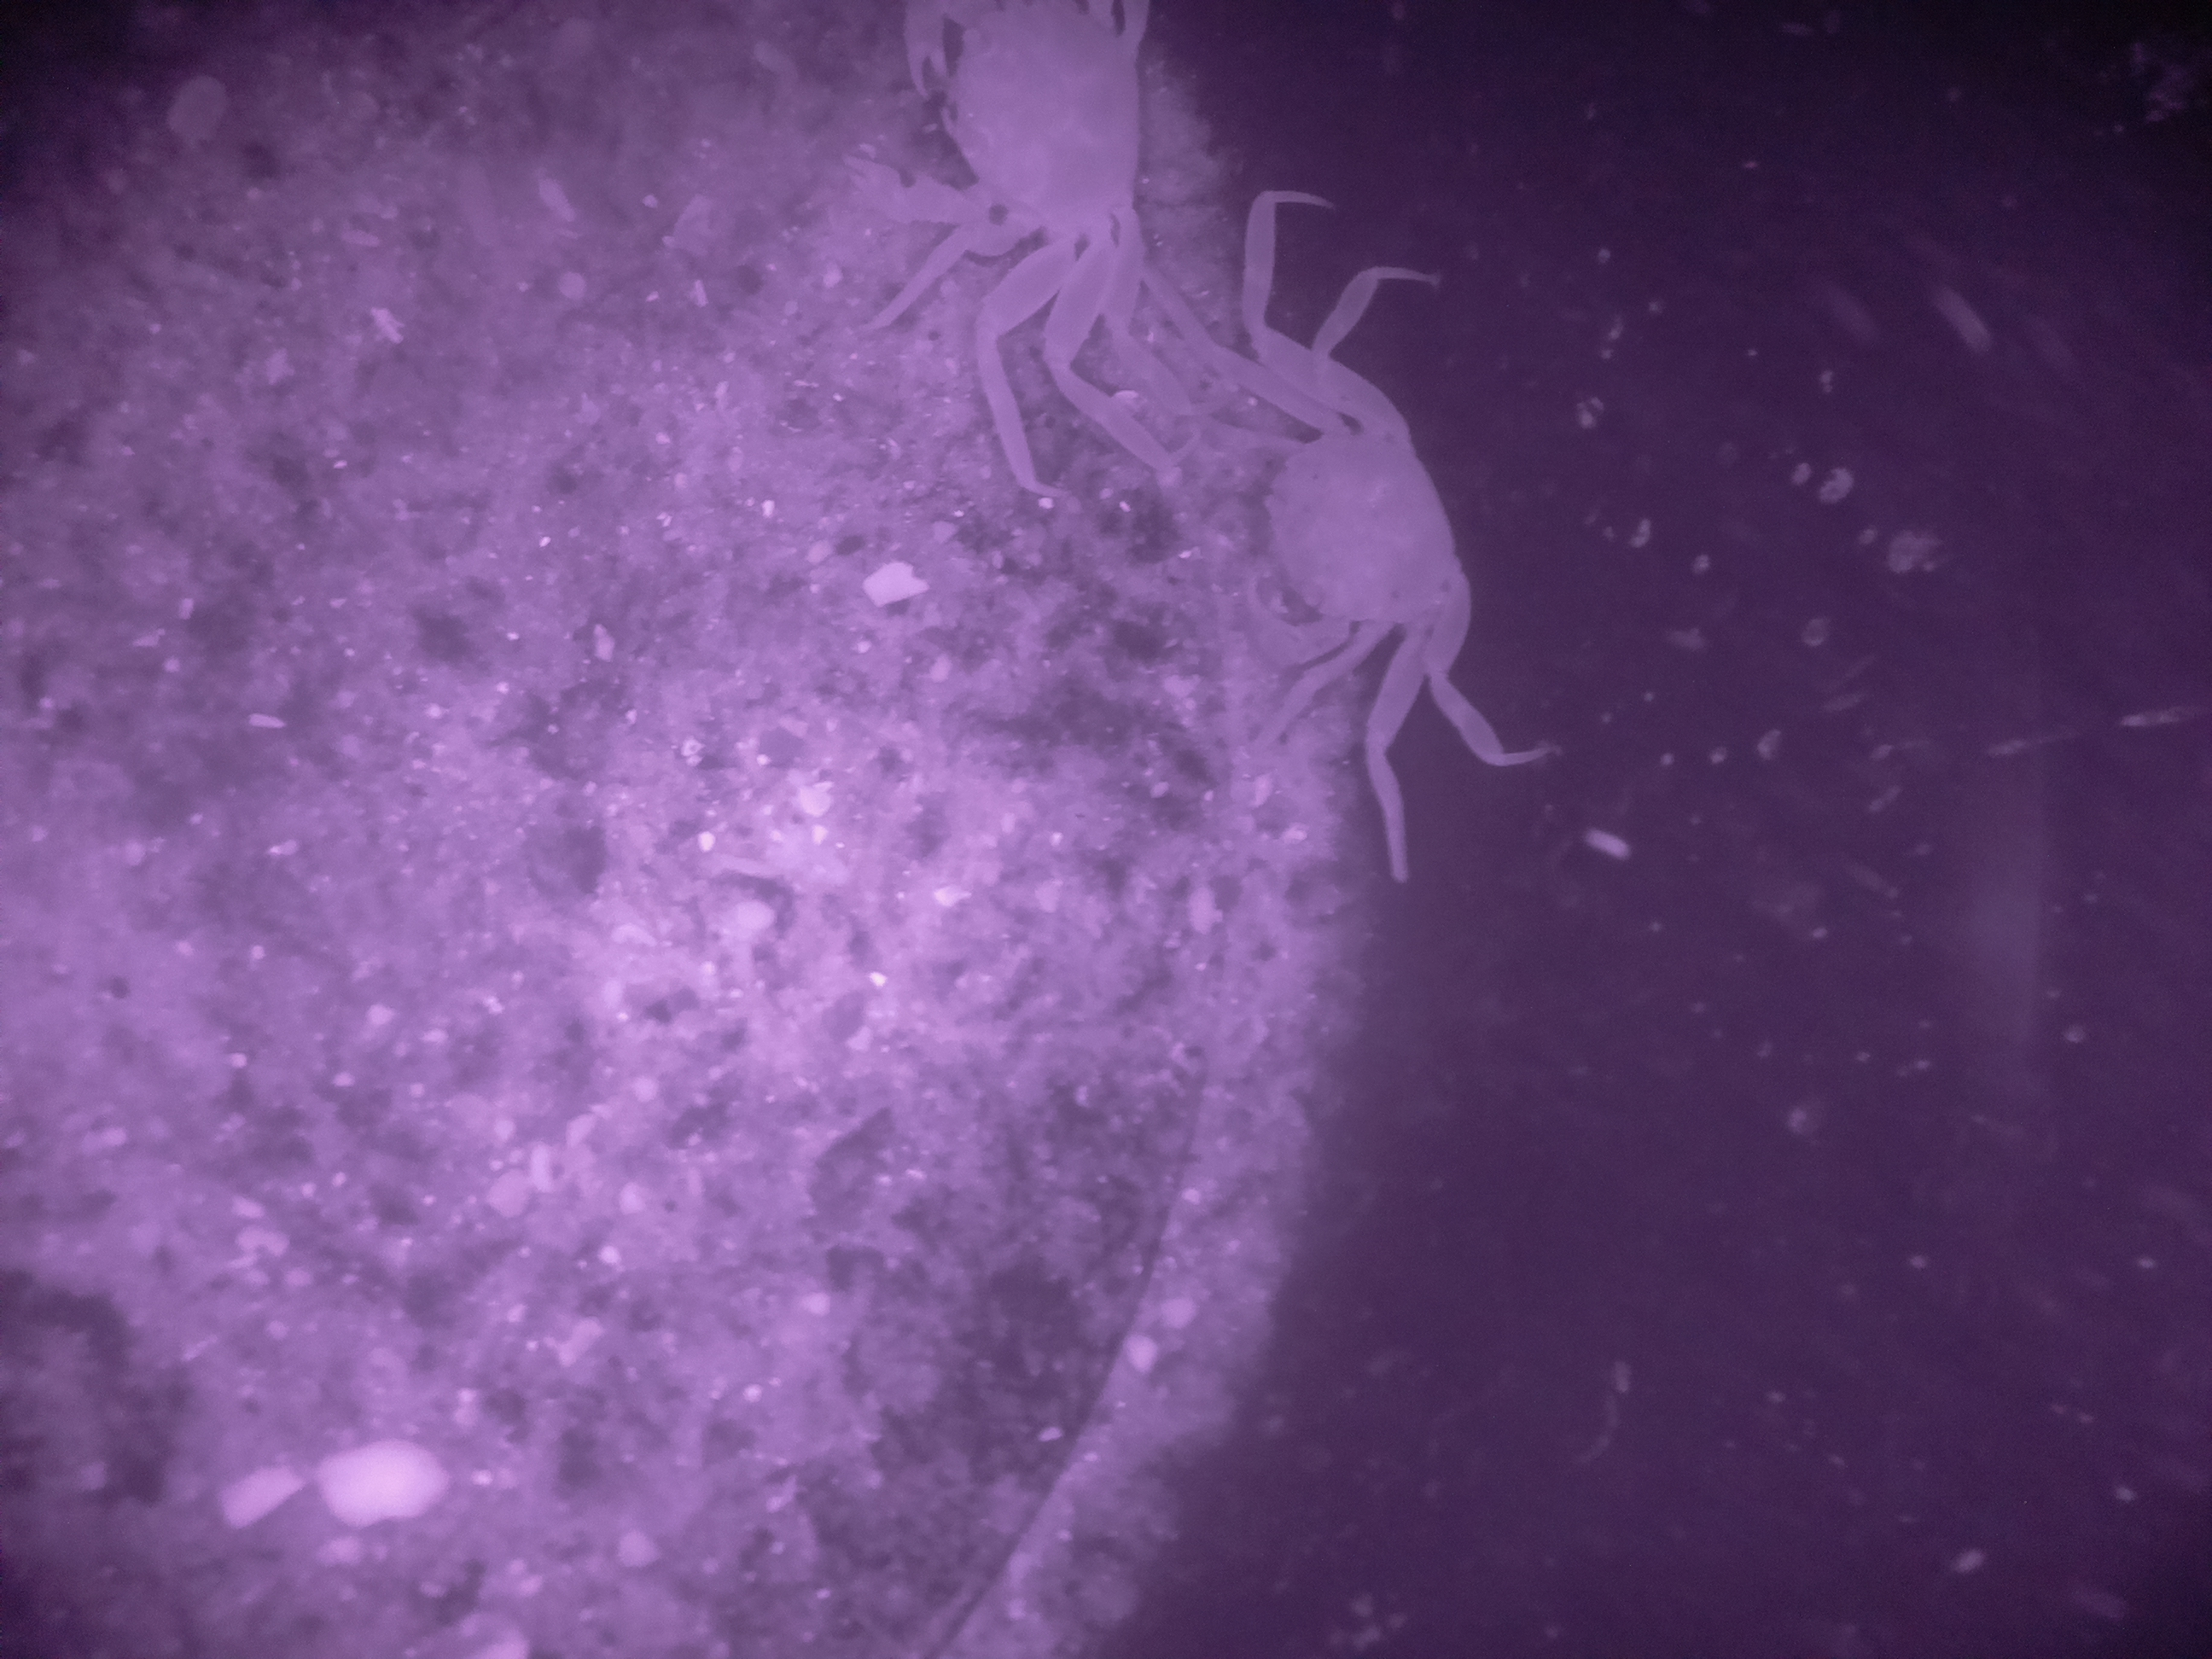Crab: (1200, 321, 1622, 728)
